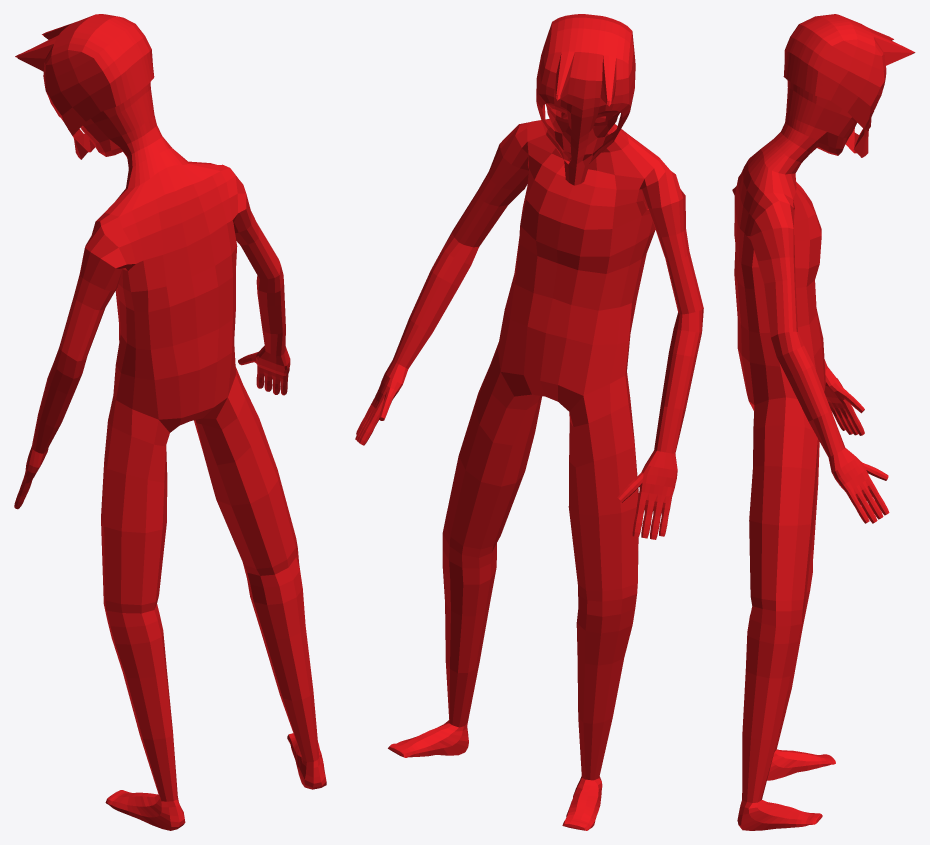
Rendered from reposoE_000277.obj.
3 renders of one model, left to right at view 1: azimuth 30°, elevation 25°; view 2: azimuth 150°, elevation 25°; view 3: azimuth 270°, elevation 25°, orthographic. The views are drawn at different scales.
Visible parts, largest first — view 1: Plane.002_Plane.001; view 2: Plane.002_Plane.001; view 3: Plane.002_Plane.001.
Boxes of the visible parts, <box> form: Plane.002_Plane.001: <box>14,14,326,830</box>; Plane.002_Plane.001: <box>355,14,703,830</box>; Plane.002_Plane.001: <box>732,14,915,830</box>.
Size of the model in its own units: 2.68 by 7.11 by 1.59.
